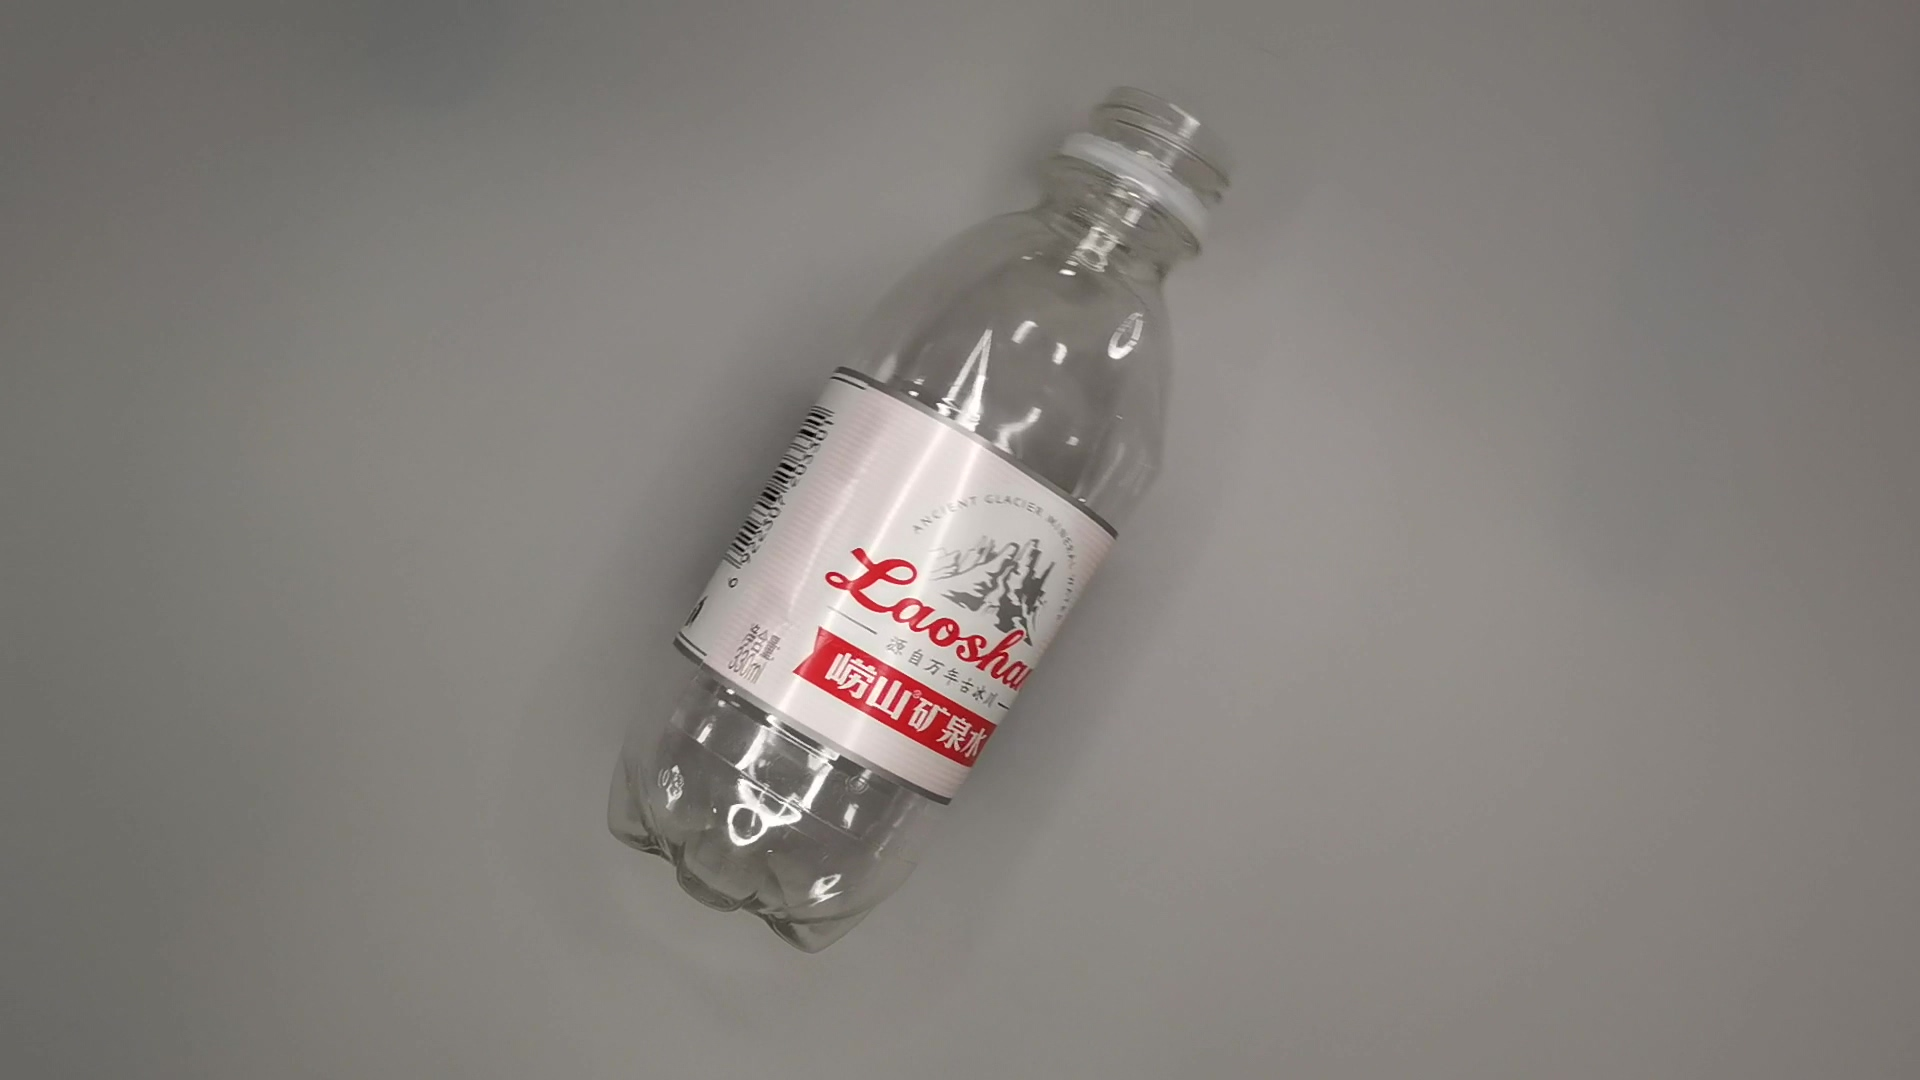bottle: (595, 80, 1237, 953)
